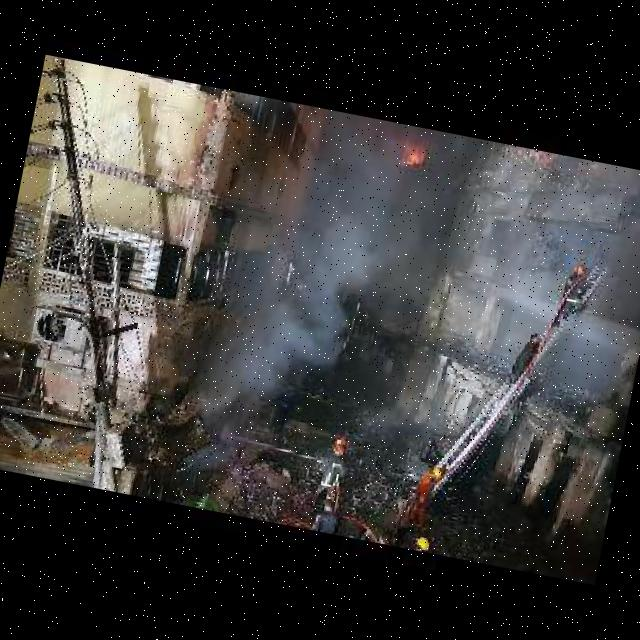fire: (398, 138, 438, 176)
